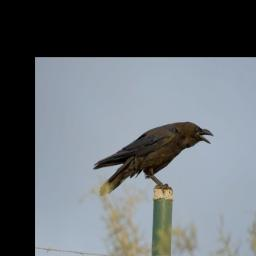Crow: (90, 118, 215, 196)
